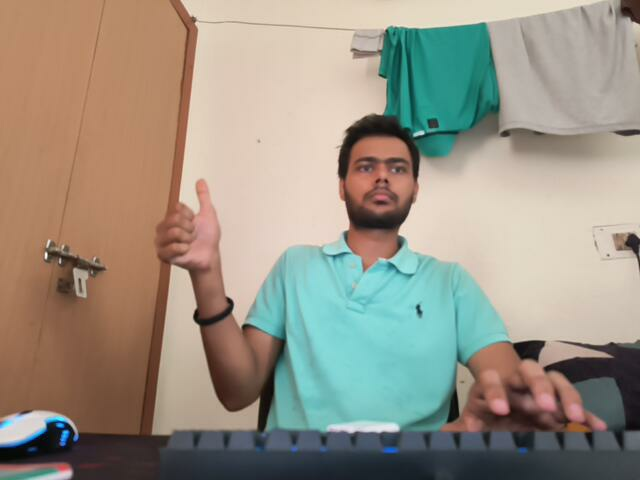ThumbsUp: (152, 179, 224, 276)
